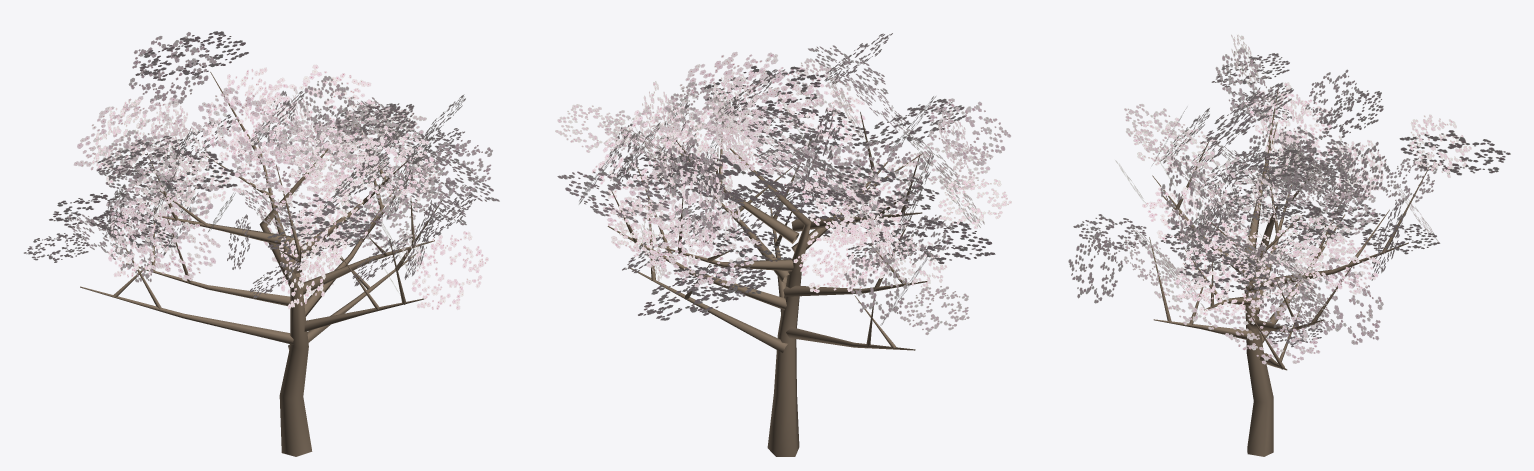
Rendered from sakura-61-low.glb.
The picture shows the model from 3 angles, left to right: view 1: azimuth 30°, elevation 25°; view 2: azimuth 150°, elevation 25°; view 3: azimuth 270°, elevation 25°; orthographic projection. The views are drawn at different scales.
Parts seen in each view (by area): view 1: LeafCards, Wood; view 2: LeafCards, Wood; view 3: LeafCards, Wood.
Part boxes in pixels (bbox=[...]): LeafCards: bbox=[24, 31, 499, 309]; Wood: bbox=[80, 72, 441, 456]; LeafCards: bbox=[555, 33, 1011, 334]; Wood: bbox=[607, 112, 927, 456]; LeafCards: bbox=[1068, 34, 1510, 364]; Wood: bbox=[1149, 88, 1429, 456].
Size of the model in its own units: 9.55 by 8.26 by 9.66.
2 materials, 1 textured.
